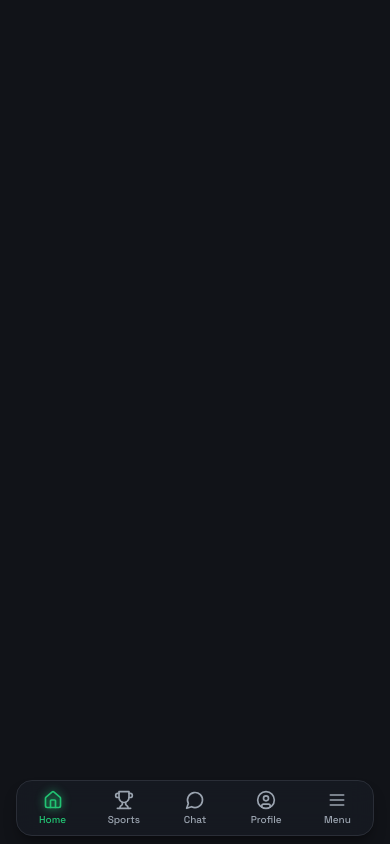
Test: mobile navigation › keeps the full sidebar reachable on phones via the Menu tab
The image size is (390, 844).
expect the text "Full navigation content" is not shown: met
Click the button "Menu": coordinates (337, 808) [302,781,373,835]
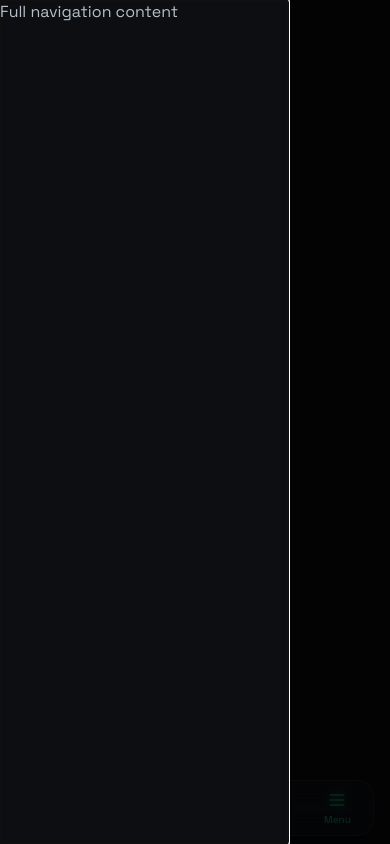
expect the text "Full navigation content" is shown: met, box [0,1,178,22]
